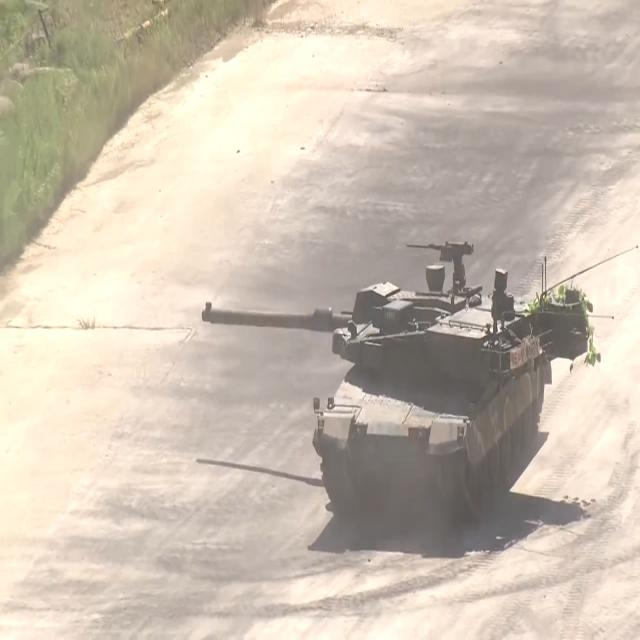korea tank: (199, 235, 595, 529)
